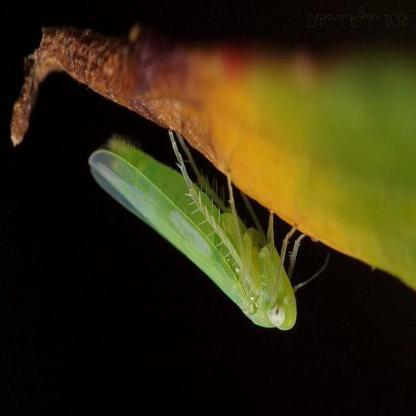green-leafhopper: (88, 129, 310, 332)
